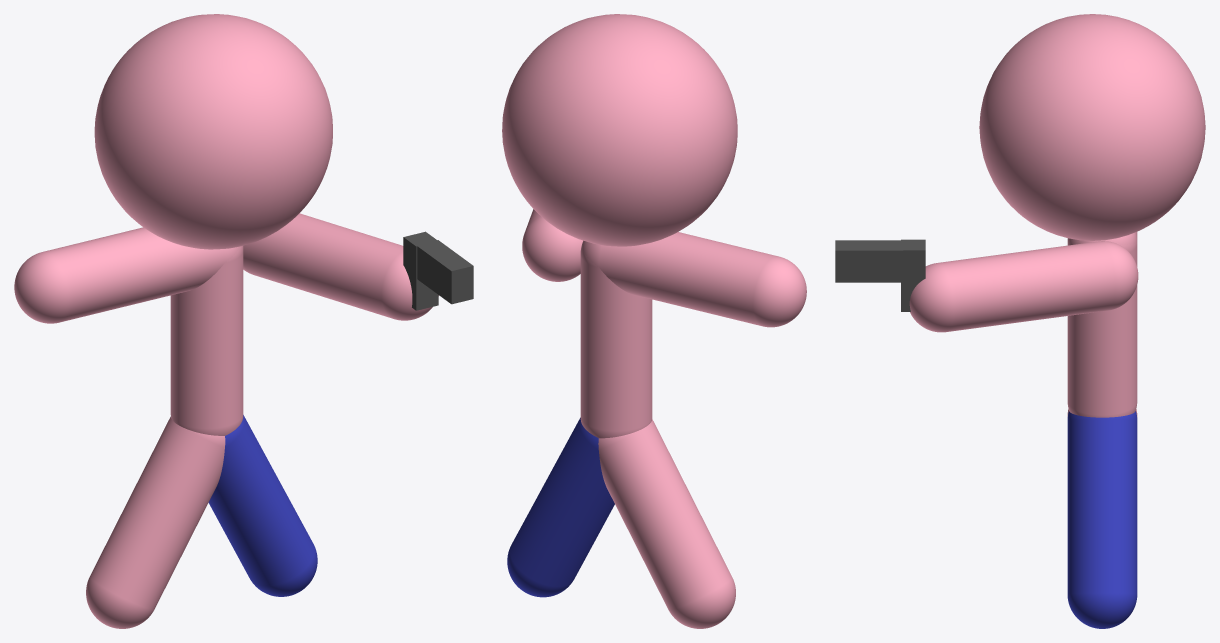
Rendered from pink_pistolero.fbx.
3 views of the same model, side by side, from view 1: azimuth 30°, elevation 25°; view 2: azimuth 150°, elevation 25°; view 3: azimuth 270°, elevation 25° (orthographic). The views are drawn at different scales.
Parts seen in each view (by area): view 1: root (×8); view 2: root (×6); view 3: root (×6).
Part boxes in pixels (x1,y1,x2,y2): root (×8): (14,14,473,628); root (×6): (502,14,806,628); root (×6): (835,14,1205,628).
Size of the model in its own units: 0.1077 by 0.1823 by 0.1079.
9 materials, 6 textured.
